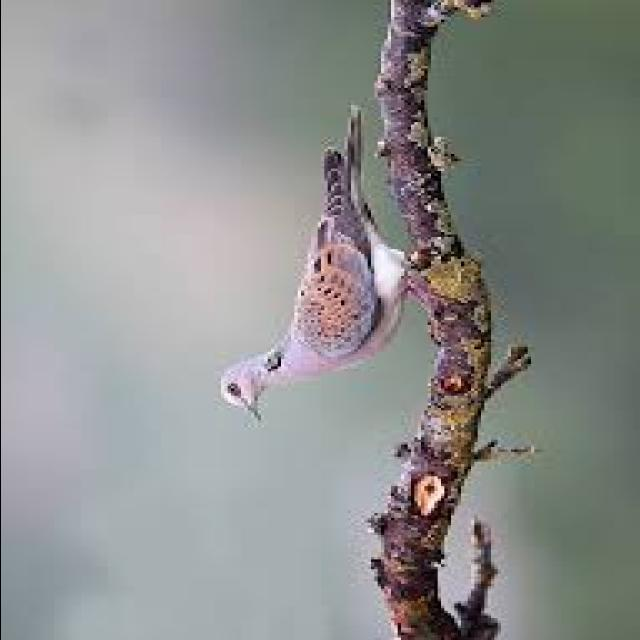pigeon: (198, 109, 431, 430)
